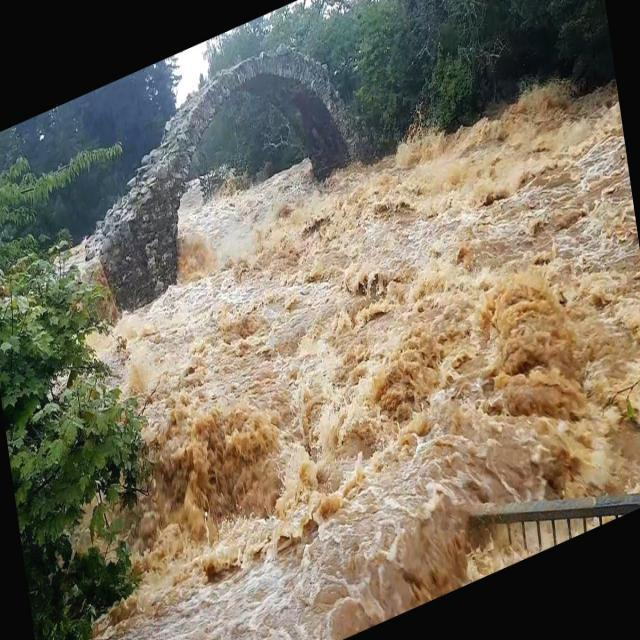flood: (70, 26, 640, 639)
